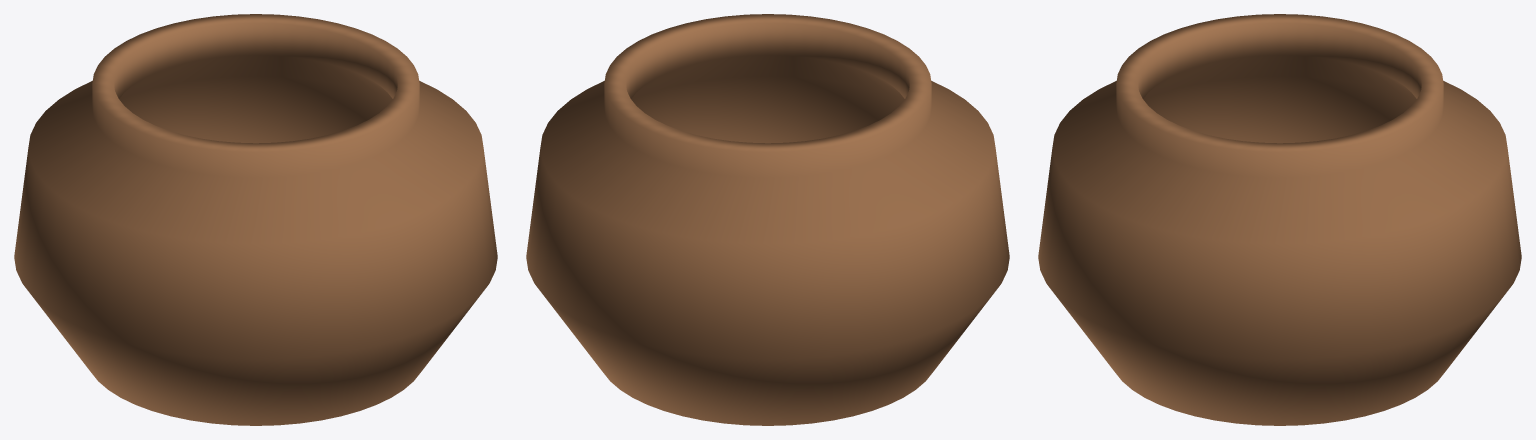
Rendered from cooking-pot-ultra.glb.
3 views of the same model, side by side, from view 1: azimuth 30°, elevation 25°; view 2: azimuth 150°, elevation 25°; view 3: azimuth 270°, elevation 25° (orthographic).
Visible parts, largest first — view 1: cooking-pot; view 2: cooking-pot; view 3: cooking-pot.
Boxes of the visible parts, bbox=[...] form: cooking-pot: bbox=[14, 14, 497, 425]; cooking-pot: bbox=[526, 14, 1009, 425]; cooking-pot: bbox=[1038, 14, 1521, 425].
Bounding box in the file's own units: 0.68 × 0.42 × 0.68.
